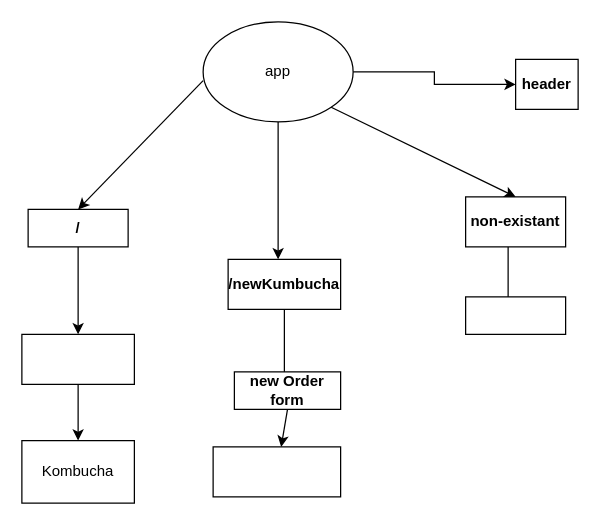
Image size: 600x525. Some labels were removed from this diagram. Each missing label, with the centre of its shape:
"404 error" belongs at point (515, 315).
"confirmation" belongs at point (276, 471).
"kombucha menu" belongs at point (77, 358).
